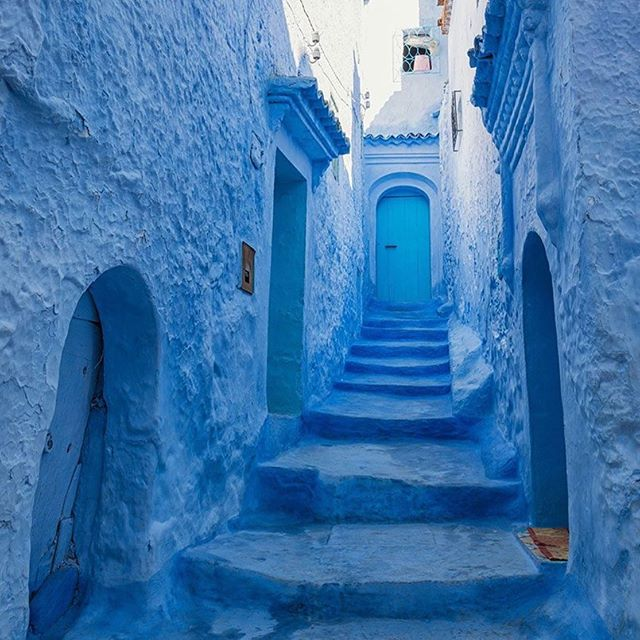door: (263, 159, 314, 422), (372, 182, 441, 317)
